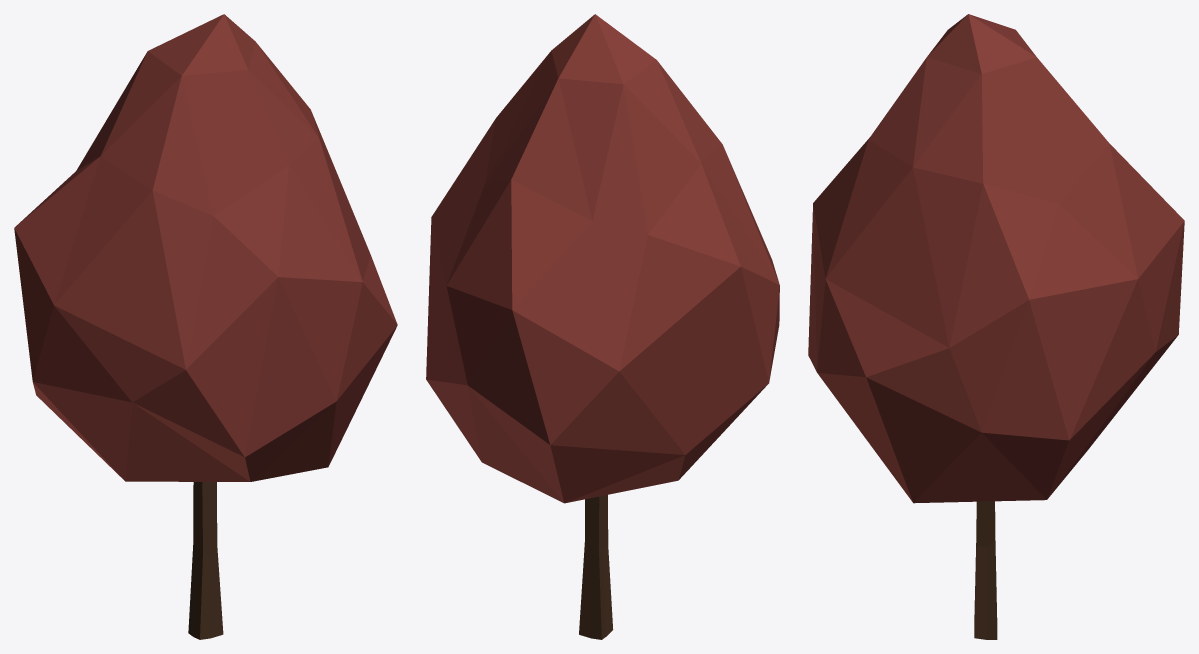
The model's file is Tree_5_Red.fbx.
3 renders of one model, left to right at view 1: azimuth 30°, elevation 25°; view 2: azimuth 150°, elevation 25°; view 3: azimuth 270°, elevation 25°, orthographic. The views are drawn at different scales.
Visible parts, largest first — view 1: Tree_5_Red_Part_1, Tree_5_Red_Part_2; view 2: Tree_5_Red_Part_1, Tree_5_Red_Part_2; view 3: Tree_5_Red_Part_1, Tree_5_Red_Part_2.
Boxes of the visible parts, bbox=[...] form: Tree_5_Red_Part_1: bbox=[14, 14, 397, 481]; Tree_5_Red_Part_2: bbox=[188, 482, 223, 639]; Tree_5_Red_Part_1: bbox=[426, 14, 779, 503]; Tree_5_Red_Part_2: bbox=[579, 495, 613, 639]; Tree_5_Red_Part_1: bbox=[808, 14, 1184, 503]; Tree_5_Red_Part_2: bbox=[974, 501, 997, 639].
Size of the model in its own units: 437 by 795 by 434.
